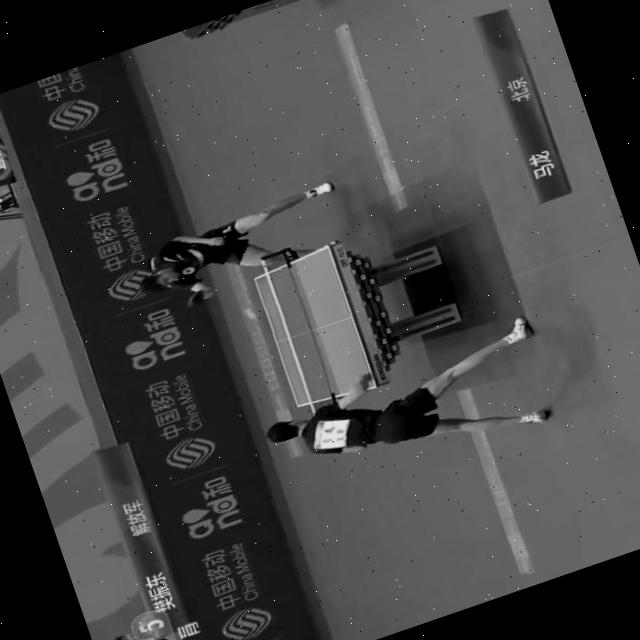ping-pong-ball: (242, 304, 258, 318)
